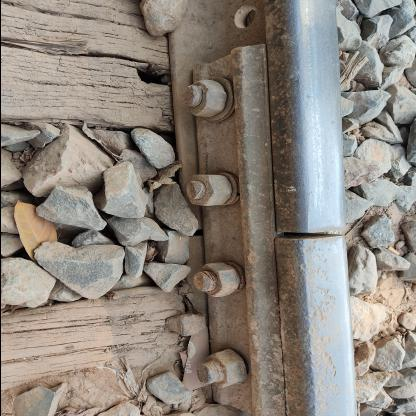Non Defective 2: (268, 168, 362, 314)
Non Defective 3: (145, 41, 292, 416)
